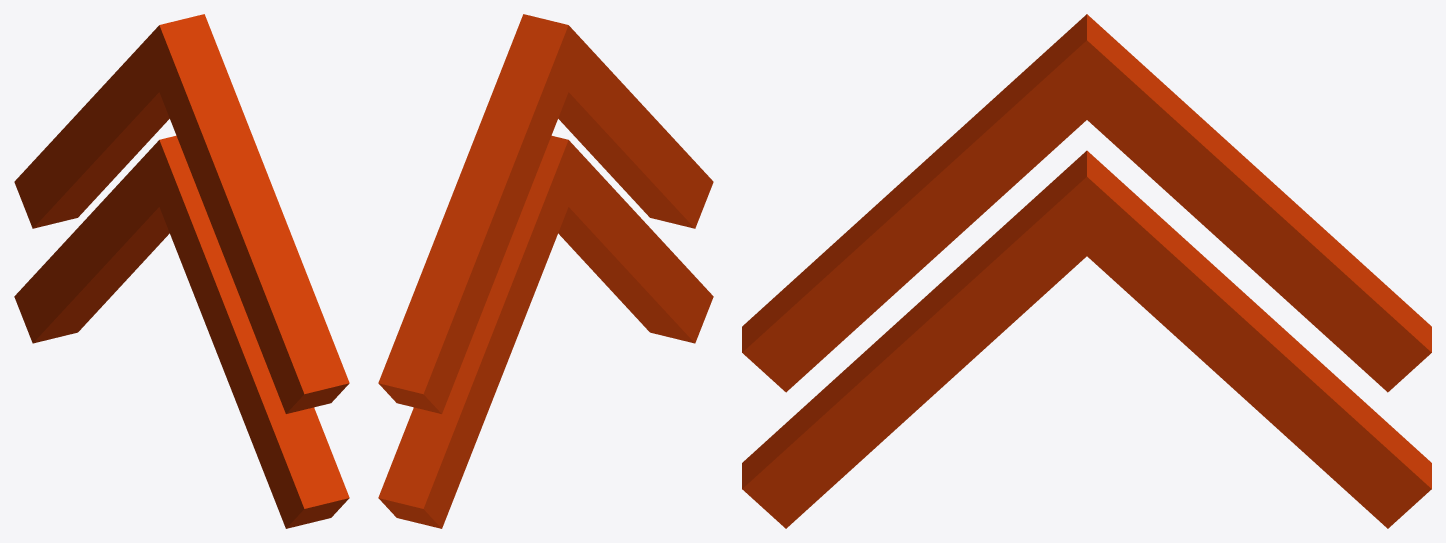
File: redindic.fbx
3 renders of one model, left to right at view 1: azimuth 30°, elevation 25°; view 2: azimuth 150°, elevation 25°; view 3: azimuth 270°, elevation 25°, orthographic. The views are drawn at different scales.
Visible parts, largest first — view 1: indicators; view 2: indicators; view 3: indicators.
Part boxes in pixels (x1,y1,x2,y2): indicators: (14,14,349,528); indicators: (378,14,713,528); indicators: (742,14,1431,528).
Size of the model in its own units: 0.0539 by 0.4682 by 0.5989.
